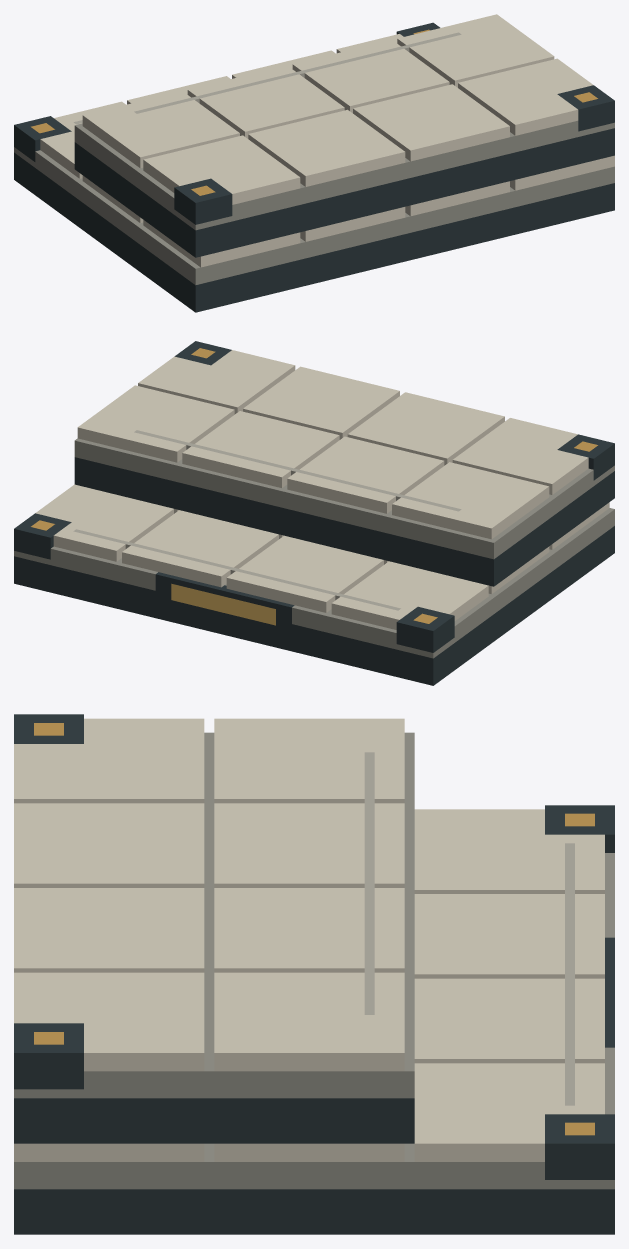
3 views of the same model, one above another, from view 1: azimuth 30°, elevation 25°; view 2: azimuth 150°, elevation 25°; view 3: azimuth 270°, elevation 25° (orthographic). The views are drawn at different scales.
Parts seen in each view (by area): view 1: 共享奇数级差低位接台; view 2: 共享奇数级差低位接台; view 3: 共享奇数级差低位接台.
Boxes of the visible parts, x1,y1,x2,y2 form: 共享奇数级差低位接台: [14, 14, 614, 312]; 共享奇数级差低位接台: [14, 341, 614, 685]; 共享奇数级差低位接台: [14, 714, 614, 1234].
Size of the model in its own units: 1.6 by 0.4 by 1.2.
Materials: 6 (6 with a texture image).
